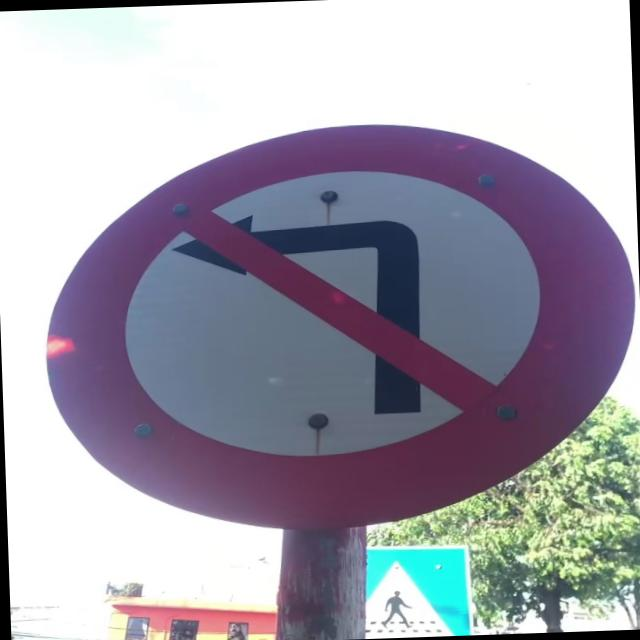Cam_Re_Trai: (51, 117, 640, 544)
